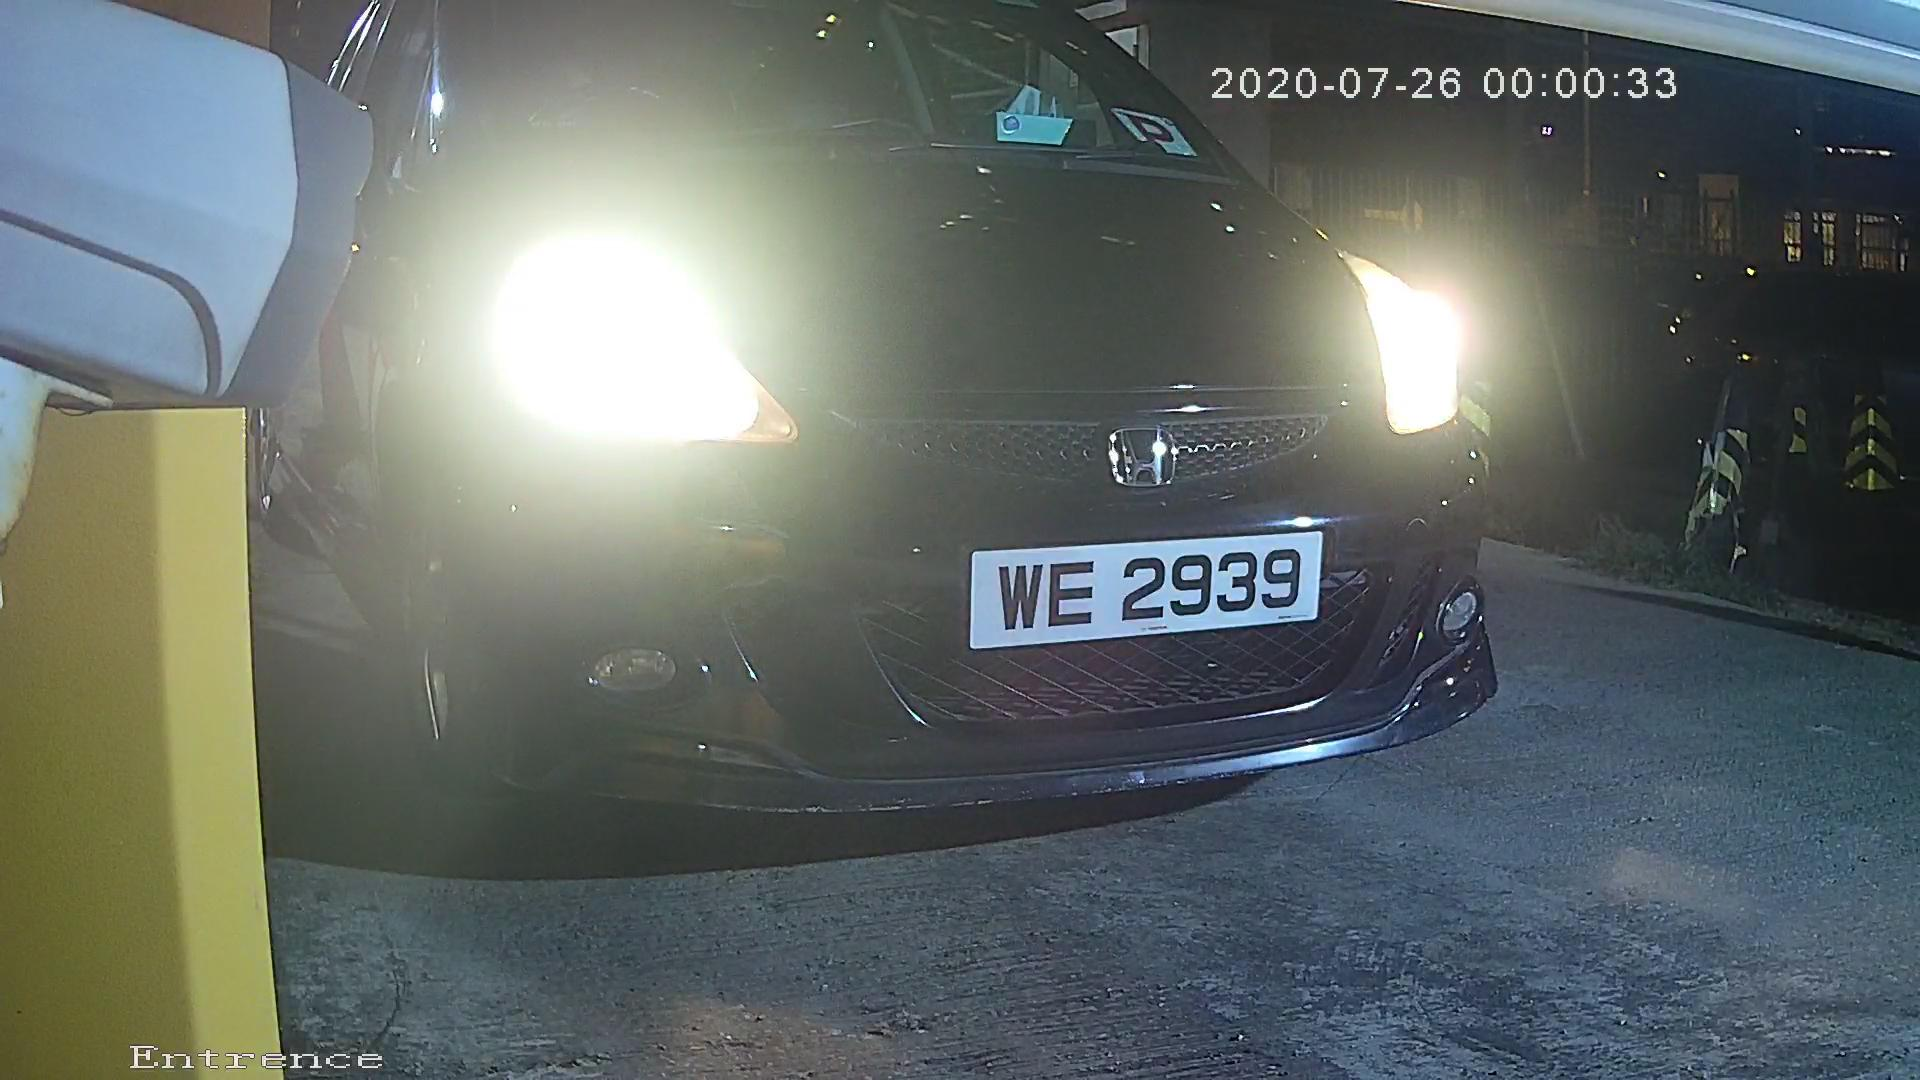License Plate: (943, 516, 1346, 661)
